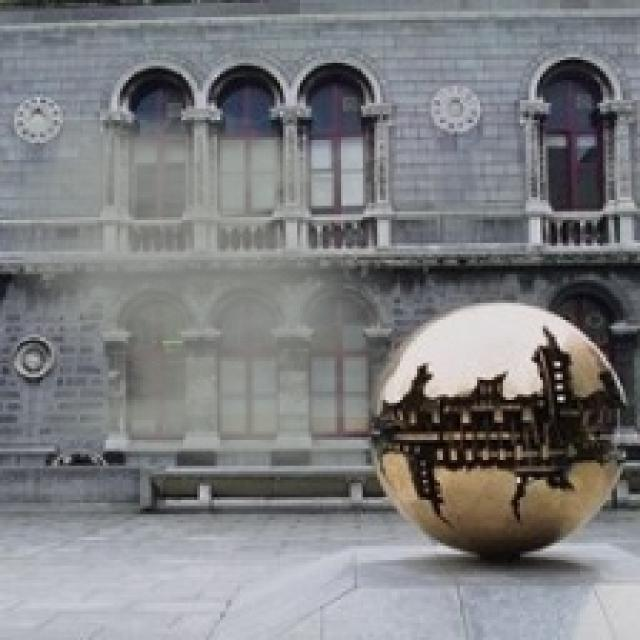smoke: (12, 112, 394, 477)
